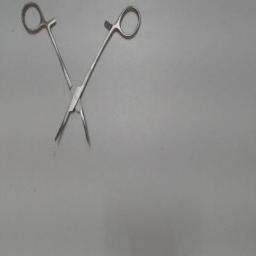Crile Artery Forceps: (12, 0, 146, 156)
